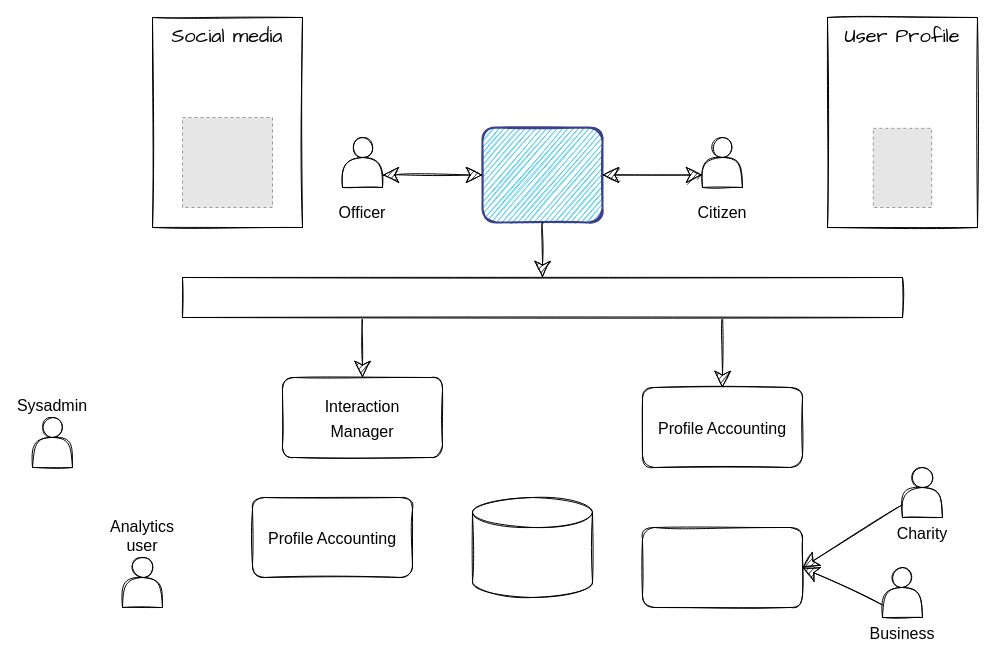
Image size: 995x661. Some labels were removed from this diagram. Grey dashed boxes stand in for pictures. The shapes that lost their labels are listed below. From the top down, each one's centre as x and y in pixels, then its label:
At (542,174): "#HeyBlue App".
At (532,547): "Reporting & Analytics".
At (722,567): "E-commerce Platform".
